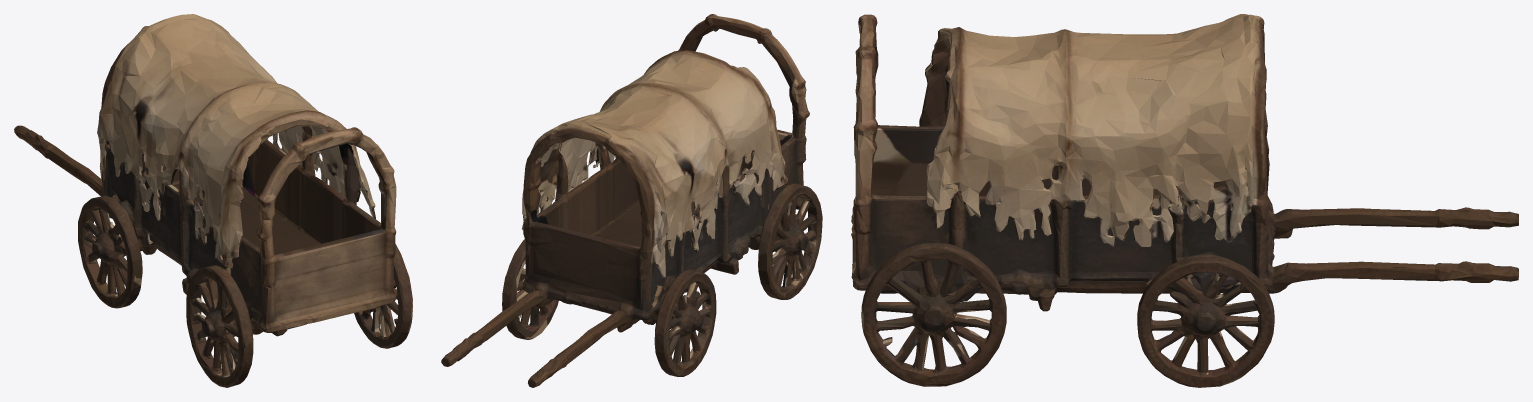
File: wagon-hd2.glb
3 renders of one model, left to right at view 1: azimuth 30°, elevation 25°; view 2: azimuth 150°, elevation 25°; view 3: azimuth 270°, elevation 25°, orthographic. The views are drawn at different scales.
Parts seen in each view (by area): view 1: tmpnj_zql1v.ply; view 2: tmpnj_zql1v.ply; view 3: tmpnj_zql1v.ply.
Part boxes in pixels (x1=…): tmpnj_zql1v.ply: x1=14, y1=14, x2=412, y2=387; tmpnj_zql1v.ply: x1=441, y1=14, x2=822, y2=387; tmpnj_zql1v.ply: x1=851, y1=14, x2=1518, y2=387.
Size of the model in its own units: 0.8119 by 1.04 by 1.99.
1 material, 1 textured.
